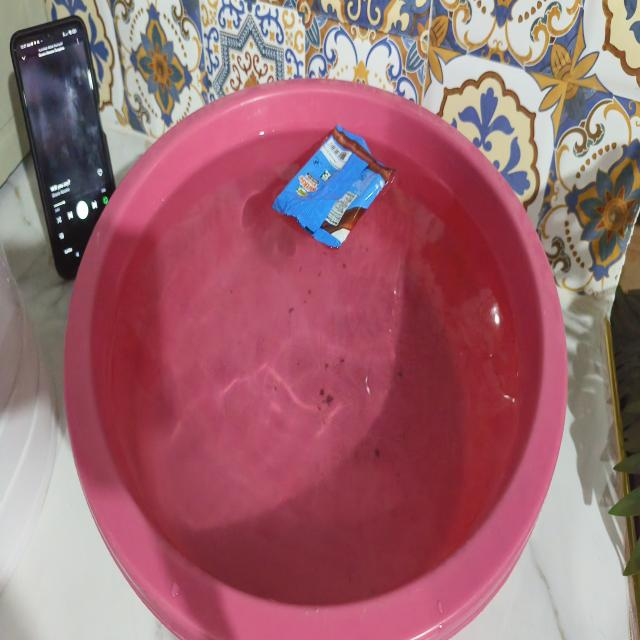Plastic Wrapper: (272, 125, 395, 247)
